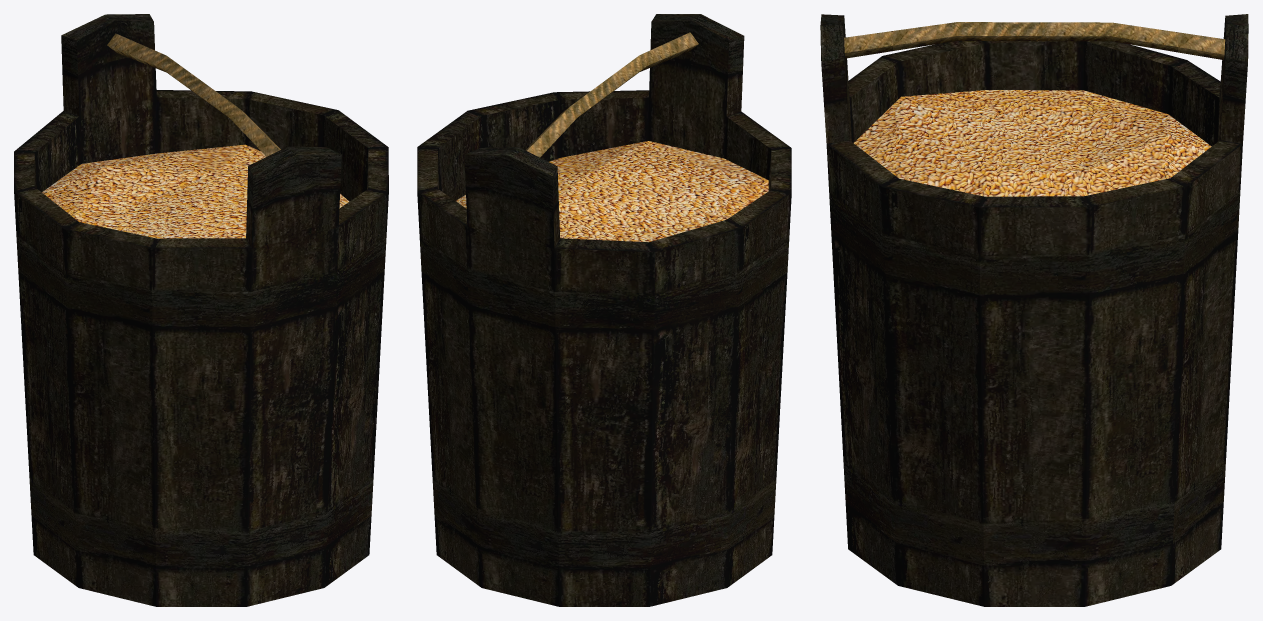
Rendered from PASZA.glb.
3 views of the same model, side by side, from view 1: azimuth 30°, elevation 25°; view 2: azimuth 150°, elevation 25°; view 3: azimuth 270°, elevation 25° (orthographic). The views are drawn at different scales.
Visible parts, largest first — view 1: PASZA; view 2: PASZA; view 3: PASZA.
Part boxes in pixels (left/top/right/bottom): PASZA: left=14, top=14, right=388, bottom=606; PASZA: left=417, top=14, right=791, bottom=606; PASZA: left=820, top=14, right=1248, bottom=606.
Size of the model in its own units: 0.3283 by 0.44 by 0.3374.
Materials: 3 (3 with a texture image).
